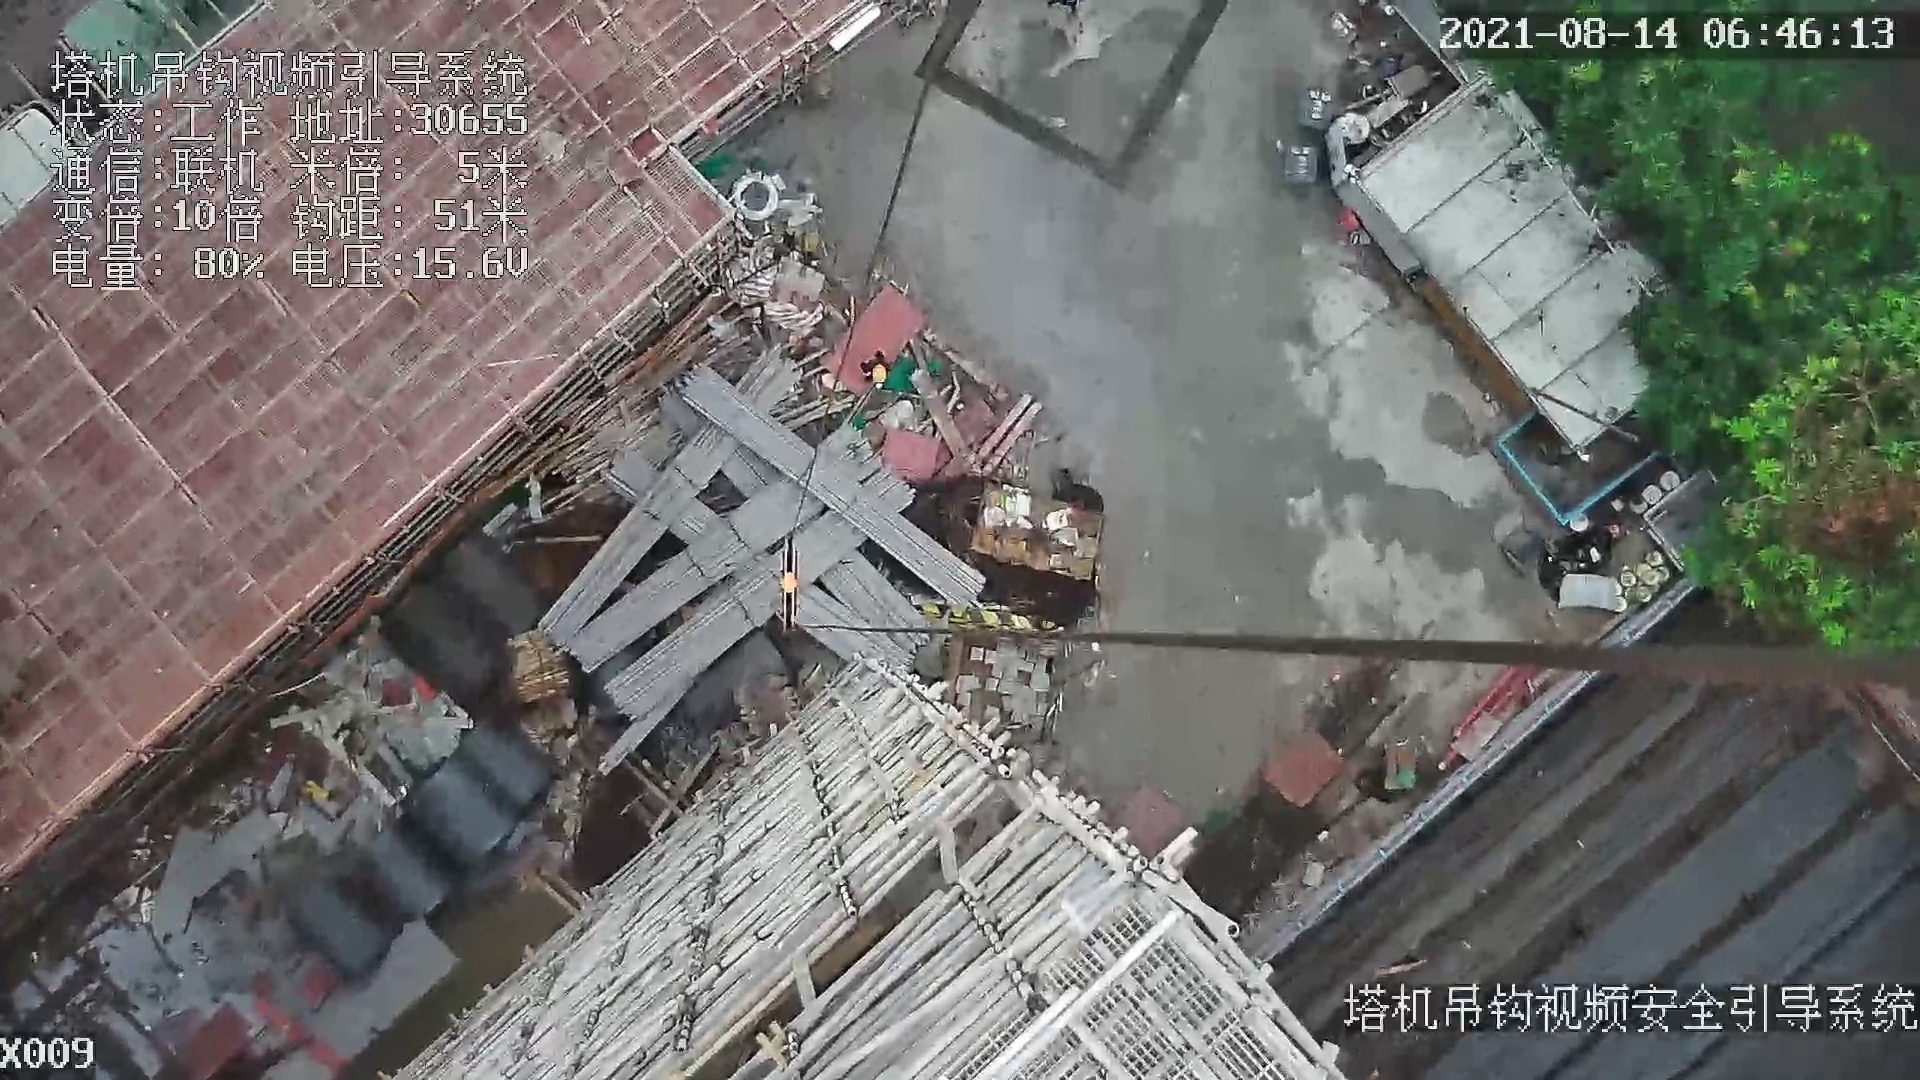helmet: (874, 367, 891, 389)
hook: (778, 536, 808, 640)
hopper: (1488, 402, 1644, 520)
person: (862, 351, 899, 385)
